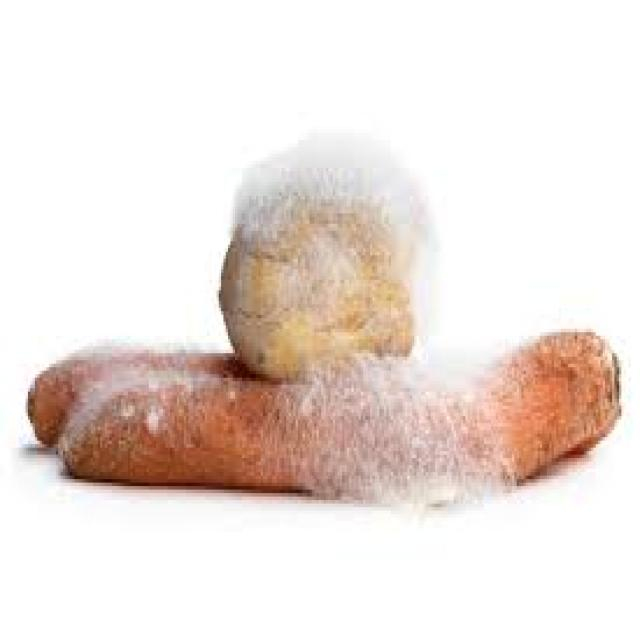Stale_Carrot: (6, 111, 640, 562)
